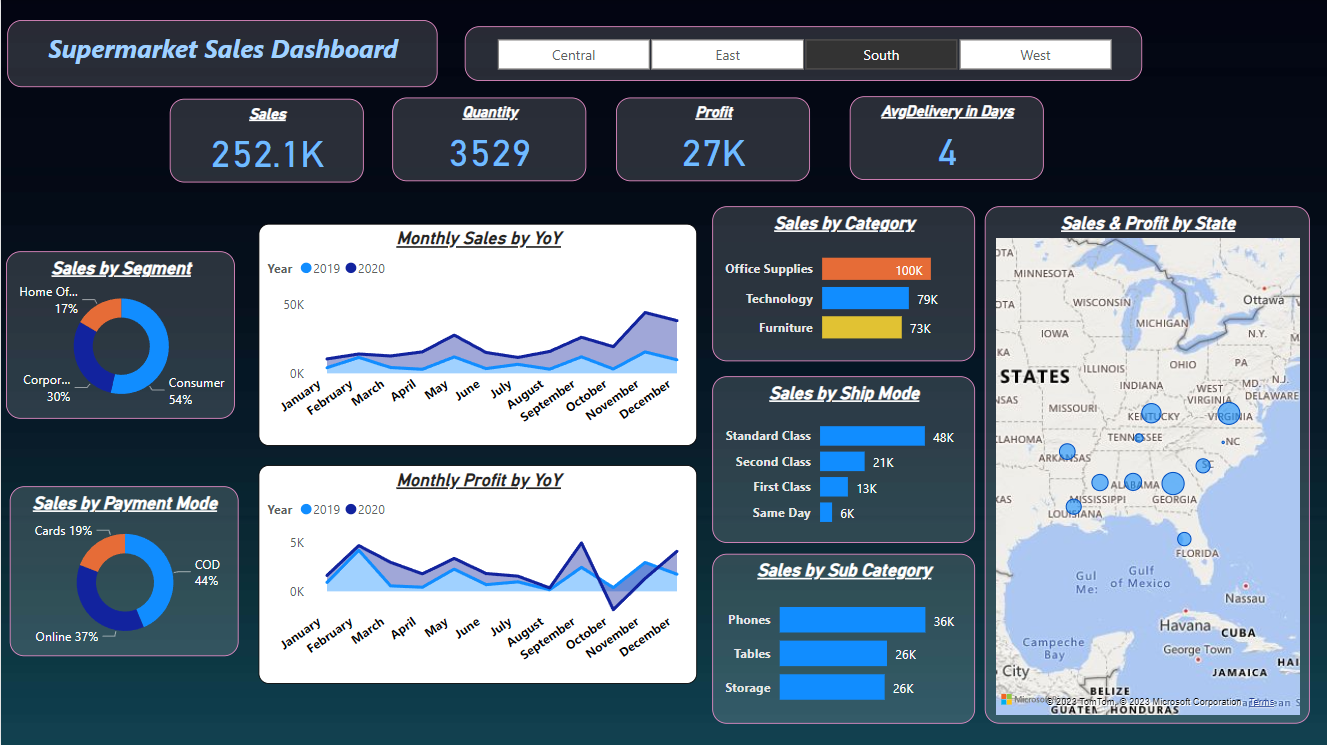

The page's visual inventory and layout, read from the dashboard file:
{"tool":"powerbi","page":{"name":"Page 1","canvas":[1280,720],"ordinal":0},"visuals":[{"type":"clusteredBarChart","title":"Sales by Category","fields":{"Category":["SuperStore_Sales_Dataset.Category"],"Y":["Sum(SuperStore_Sales_Dataset.Sales)"]},"box":[686.2,199,253.3,149.5],"z":0},{"type":"clusteredBarChart","title":"Sales by Sub Category","fields":{"Category":["SuperStore_Sales_Dataset.Sub-Category"],"Y":["Sum(SuperStore_Sales_Dataset.Sales)"]},"box":[686.2,534.3,253.3,164],"z":1000},{"type":"stackedAreaChart","title":"Monthly Sales by YoY","fields":{"Category":["SuperStore_Sales_Dataset.Order Date.Variation.Date Hierarchy.Month","SuperStore_Sales_Dataset.Order Date.Variation.Date Hierarchy.Day"],"Y":["Sum(SuperStore_Sales_Dataset.Sales)"],"Series":["SuperStore_Sales_Dataset.Order Date.Variation.Date Hierarchy.Year"]},"box":[248.4,215.9,423.3,214.7],"z":2000},{"type":"stackedAreaChart","title":"Monthly Profit by YoY","fields":{"Category":["SuperStore_Sales_Dataset.Order Date.Variation.Date Hierarchy.Month","SuperStore_Sales_Dataset.Order Date.Variation.Date Hierarchy.Day"],"Series":["SuperStore_Sales_Dataset.Order Date.Variation.Date Hierarchy.Year"],"Y":["Sum(SuperStore_Sales_Dataset.Profit)"]},"box":[248.4,448.6,423.3,211.1],"z":3000},{"type":"card","title":"Sales","fields":{"Values":["Sum(SuperStore_Sales_Dataset.Sales)"]},"box":[162.8,95.3,186.9,80.8],"z":4000},{"type":"donutChart","title":"Sales by Segment","fields":{"Category":["SuperStore_Sales_Dataset.Segment"],"Y":["Sum(SuperStore_Sales_Dataset.Sales)"]},"box":[4.8,242.4,220.7,161.6],"z":5000},{"type":"slicer","title":"Sales by Payment Mode","fields":{"Values":["SuperStore_Sales_Dataset.Region"]},"box":[447.4,25.3,653.7,53.1],"z":6000},{"type":"donutChart","title":"Sales by Payment Mode","fields":{"Category":["SuperStore_Sales_Dataset.Payment Mode"],"Y":["Sum(SuperStore_Sales_Dataset.Sales)"]},"box":[8.4,469.1,220.7,164],"z":7000},{"type":"textbox","box":[6,19.3,414.9,65.1],"z":8000},{"type":"clusteredBarChart","title":"Sales by Ship Mode","fields":{"Y":["Sum(SuperStore_Sales_Dataset.Sales)"],"Category":["SuperStore_Sales_Dataset.Ship Mode"]},"box":[686.2,363,253.3,160.4],"z":9000},{"type":"card","title":"Profit","fields":{"Values":["Sum(SuperStore_Sales_Dataset.Profit)"]},"box":[593.4,94.1,186.9,80.8],"z":10000},{"type":"map","title":"Sales & Profit by State","fields":{"Category":["SuperStore_Sales_Dataset.State"],"Size":["Sum(SuperStore_Sales_Dataset.Profit)"]},"box":[949.1,199,313.6,499.3],"z":11000},{"type":"card","title":"Quantity","fields":{"Values":["Sum(SuperStore_Sales_Dataset.Quantity)"]},"box":[377.5,94.1,186.9,80.8],"z":12000},{"type":"card","title":"AvgDelivery in Days","fields":{"Values":["Avg(SuperStore_Sales_Dataset.AvgDelivery)"]},"box":[818.9,92.9,186.9,80.8],"z":13000}]}

Visuals, with their boxes in screenshot pixels (x1, y1, x2, y2), scaled from the page's 1280x720 canvas onto the 1327x745 screenshot:
"Sales by Category" clusteredBarChart: box(711, 206, 974, 361)
"Sales by Sub Category" clusteredBarChart: box(711, 553, 974, 723)
"Monthly Sales by YoY" stackedAreaChart: box(258, 223, 696, 446)
"Monthly Profit by YoY" stackedAreaChart: box(258, 464, 696, 683)
"Sales" card: box(169, 99, 363, 182)
"Sales by Segment" donutChart: box(5, 251, 234, 418)
"Sales by Payment Mode" slicer: box(464, 26, 1142, 81)
"Sales by Payment Mode" donutChart: box(9, 485, 238, 655)
textbox: box(6, 20, 436, 87)
"Sales by Ship Mode" clusteredBarChart: box(711, 376, 974, 542)
"Profit" card: box(615, 97, 809, 181)
"Sales & Profit by State" map: box(984, 206, 1309, 723)
"Quantity" card: box(391, 97, 585, 181)
"AvgDelivery in Days" card: box(849, 96, 1043, 180)
